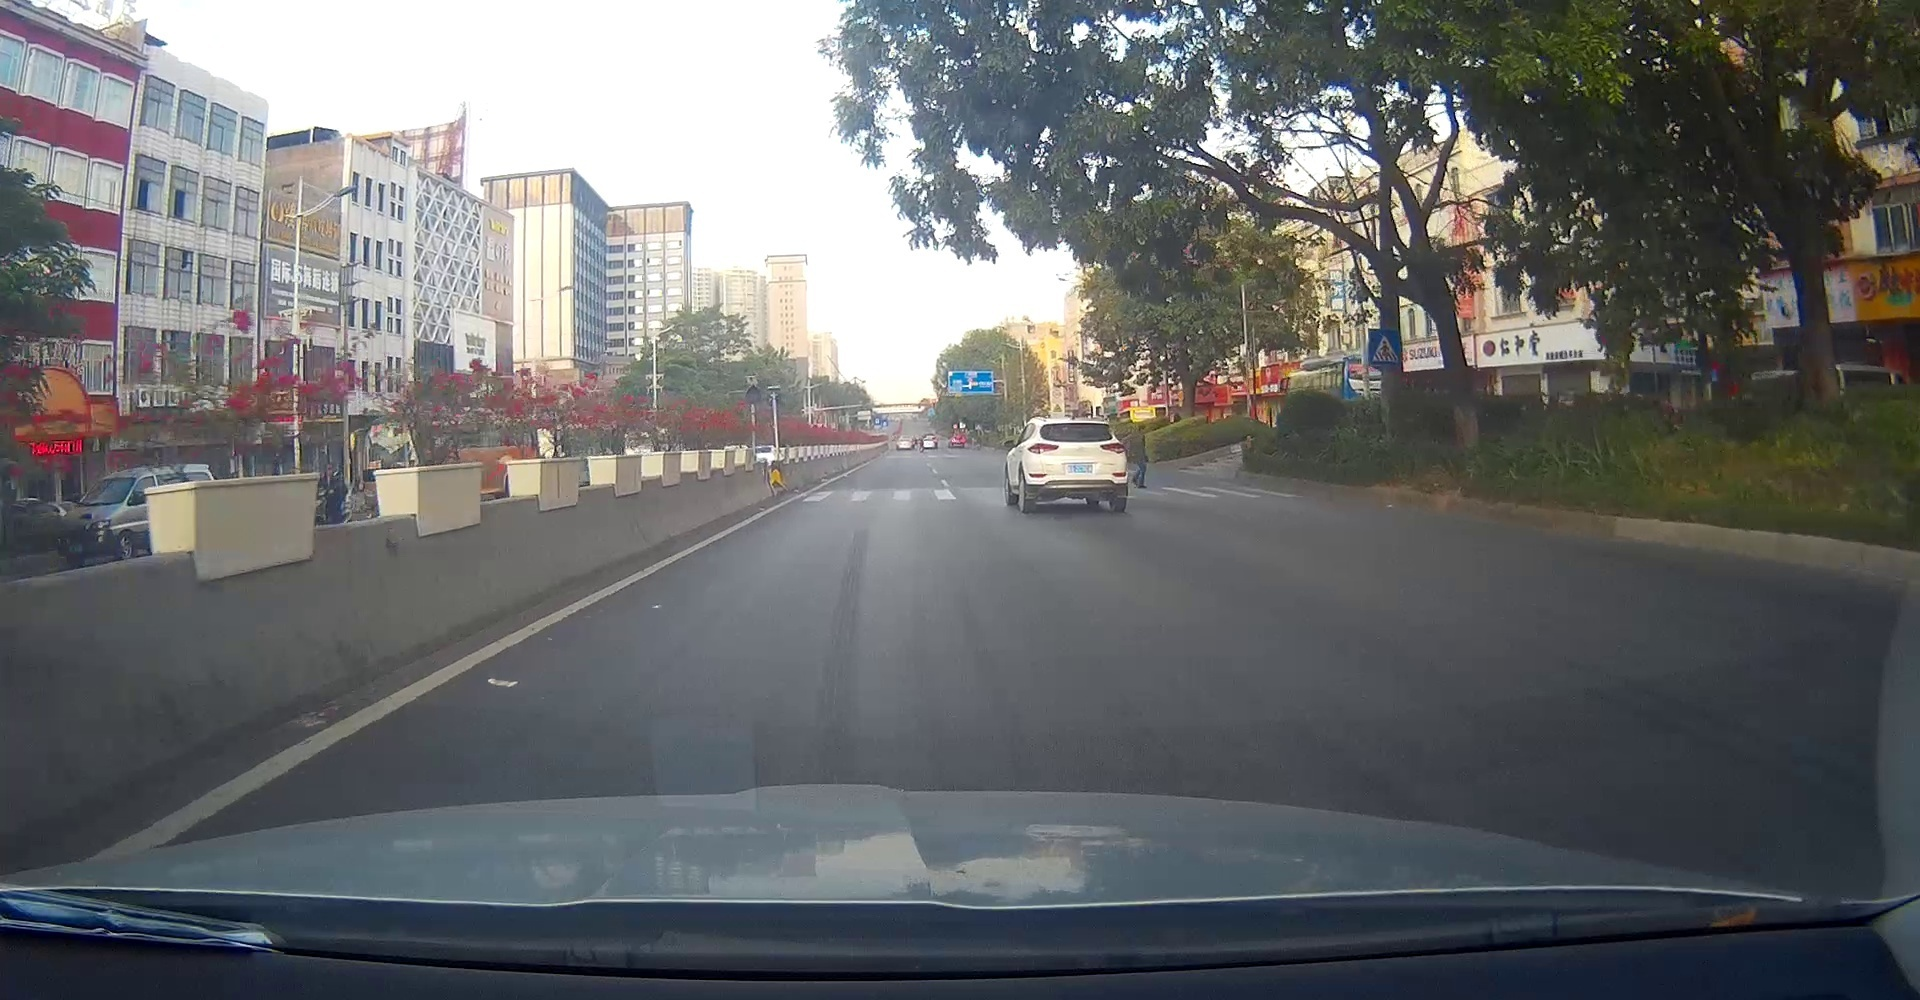L_light: (1027, 442, 1059, 456)
R_light: (1098, 442, 1126, 454)
T_light: (1069, 423, 1081, 426)
day-no: (1023, 418, 1128, 513)
